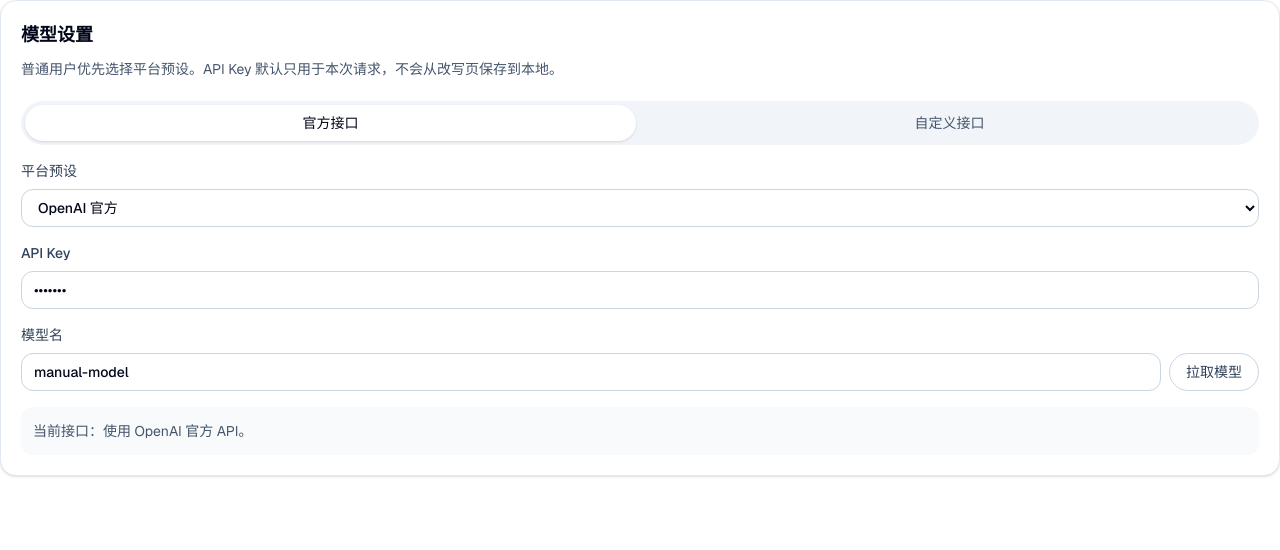
Test: ModelSettingsPanel › keeps manual model input when model fetching fails
Click the button "拉取模型" at [1214, 372], box [1169,353,1259,391]
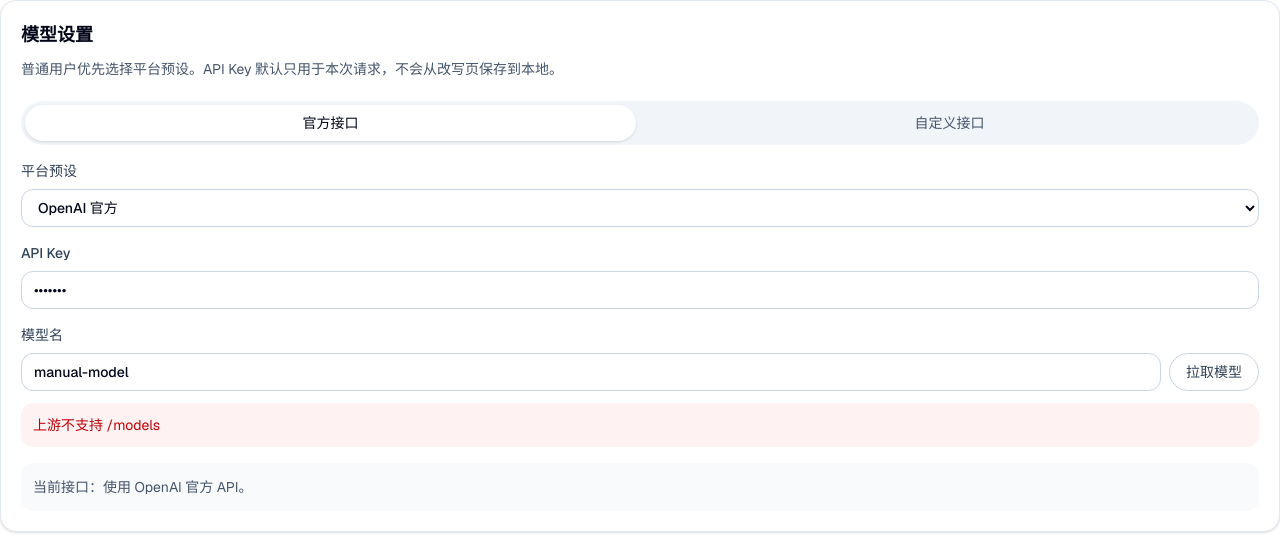
Expected: the field labelled "模型名" holds "manual-model", [21,353,1161,391]
Expected: the text "上游不支持 /models" is shown, [21,403,1259,447]
